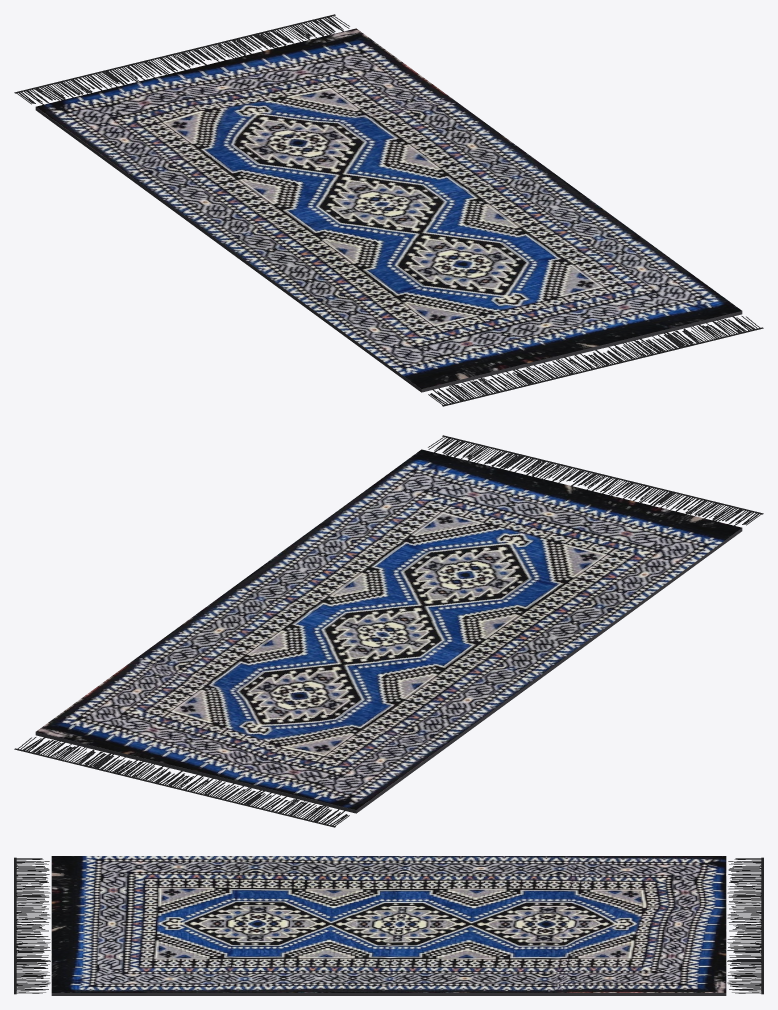
The picture shows the model from 3 angles, top to bottom: view 1: azimuth 30°, elevation 25°; view 2: azimuth 150°, elevation 25°; view 3: azimuth 270°, elevation 25°; orthographic projection. The views are drawn at different scales.
Parts seen in each view (by area): view 1: rug, fringeB, fringeA, side; view 2: rug, fringeA, fringeB, side; view 3: rug, fringeA, fringeB, side.
Boxes of the visible parts, x1,y1,x2,y2 form: rug: [36, 28, 741, 388]; fringeB: [428, 316, 763, 406]; fringeA: [14, 14, 349, 104]; side: [35, 107, 742, 392]; rug: [36, 449, 741, 809]; fringeA: [14, 737, 349, 827]; fringeB: [428, 435, 763, 525]; side: [35, 528, 742, 813]; rug: [51, 856, 726, 992]; fringeA: [727, 857, 763, 994]; fringeB: [14, 857, 50, 994]; side: [51, 993, 726, 995].
Size of what is drawn, in the model's own units: 0.6 by 0.00614 by 1.39.
Materials: 2 (2 with a texture image).
